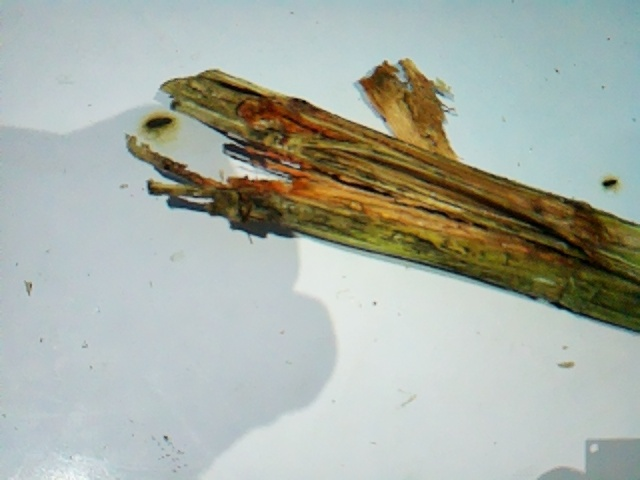Red-Rot: (132, 54, 640, 331)
